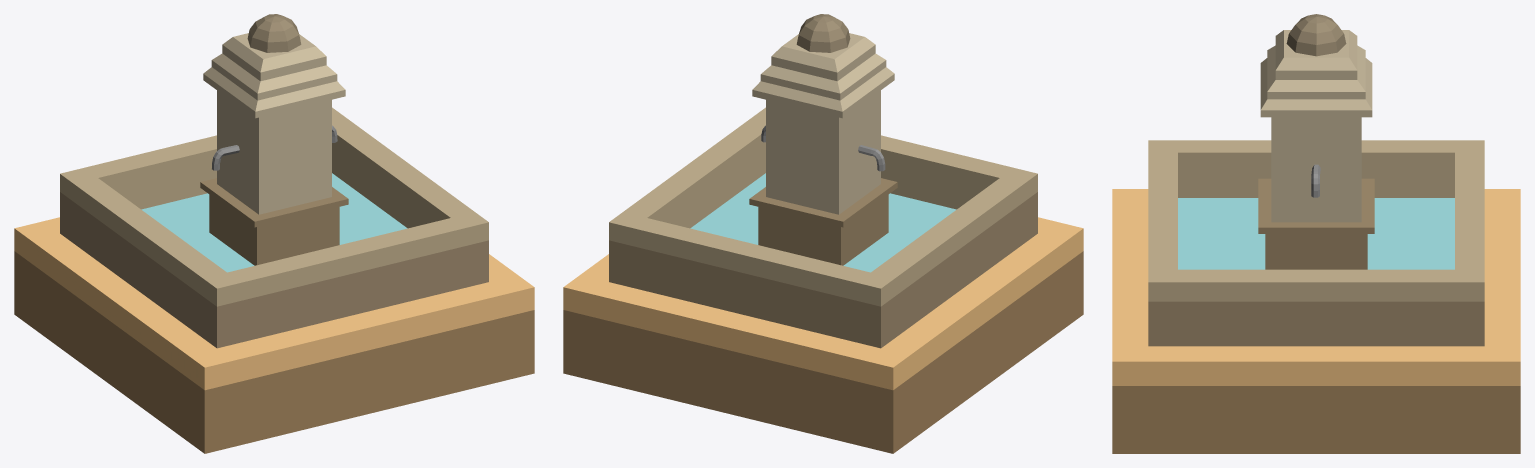
File: Fountain.fbx
The picture shows the model from 3 angles, left to right: view 1: azimuth 30°, elevation 25°; view 2: azimuth 150°, elevation 25°; view 3: azimuth 270°, elevation 25°; orthographic projection. The views are drawn at different scales.
Parts seen in each view (by area): view 1: Cube, Cube.001, Cube.002, Plane, Sphere; view 2: Cube, Cube.001, Cube.002, Plane, Sphere; view 3: Cube, Cube.001, Cube.002, Plane, Sphere.
Part boxes in pixels (left/top/right/bottom): Cube: left=14, top=217, right=534, bottom=453; Cube.001: left=60, top=107, right=488, bottom=348; Cube.002: left=200, top=33, right=348, bottom=265; Plane: left=141, top=173, right=407, bottom=272; Sphere: left=247, top=14, right=301, bottom=52; Cube: left=563, top=217, right=1083, bottom=453; Cube.001: left=609, top=107, right=1037, bottom=348; Cube.002: left=749, top=33, right=897, bottom=265; Plane: left=690, top=173, right=956, bottom=272; Sphere: left=796, top=14, right=850, bottom=52; Cube: left=1112, top=189, right=1520, bottom=453; Cube.001: left=1148, top=140, right=1484, bottom=346; Cube.002: left=1258, top=30, right=1374, bottom=269; Plane: left=1178, top=198, right=1454, bottom=269; Sphere: left=1286, top=14, right=1346, bottom=56.
Bounding box in the file's own units: 800 × 762 × 800.
